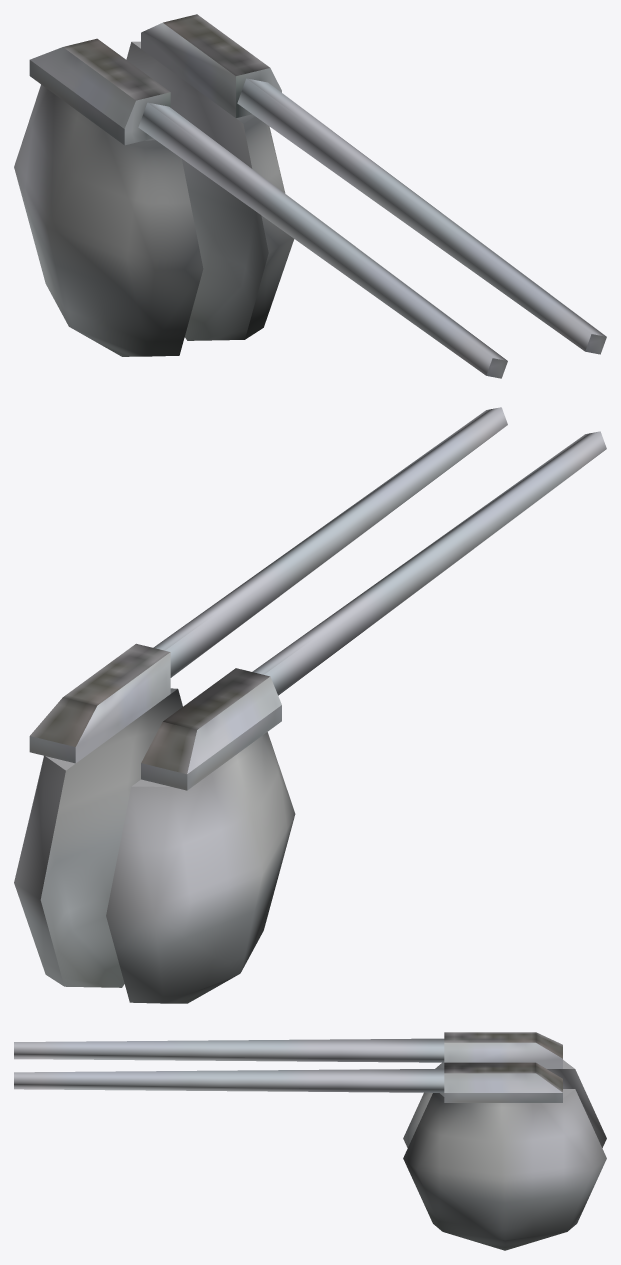
The model's file is lambda_weapon1_l2.fbx.
The picture shows the model from 3 angles, top to bottom: view 1: azimuth 30°, elevation 25°; view 2: azimuth 150°, elevation 25°; view 3: azimuth 270°, elevation 25°; orthographic projection. The views are drawn at different scales.
Visible parts, largest first — view 1: mesh_node; view 2: mesh_node; view 3: mesh_node.
Boxes of the visible parts, bbox=[...] form: mesh_node: bbox=[14, 14, 606, 378]; mesh_node: bbox=[14, 407, 606, 1003]; mesh_node: bbox=[14, 1032, 606, 1250].
Bounding box in the file's own units: 1.39 × 1.85 × 5.28.
